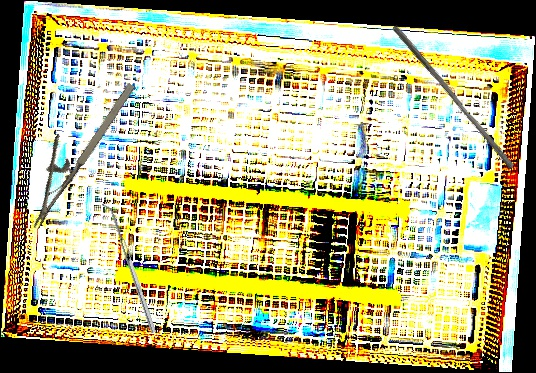Needle Holder: (4, 66, 140, 231)
Pusher: (386, 23, 520, 171)
Spatula Surgical: (101, 201, 157, 335)
